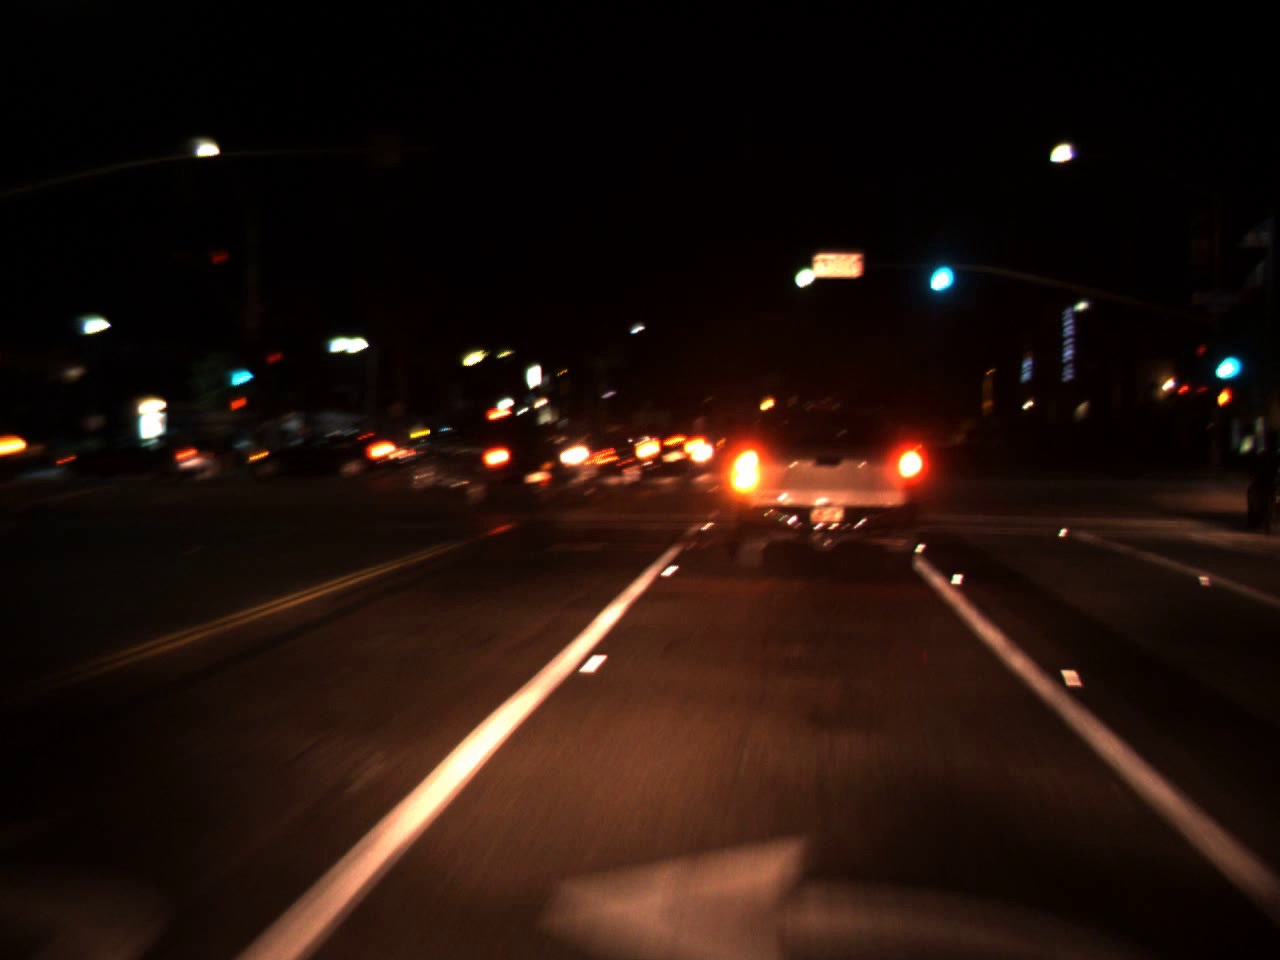go: (920, 235, 959, 301), (1204, 328, 1245, 388), (787, 246, 821, 294), (222, 352, 258, 391)
